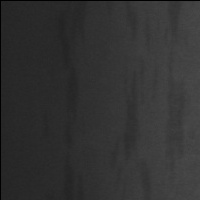inclusion: (51, 8, 87, 199), (115, 58, 153, 196), (160, 7, 189, 180)
